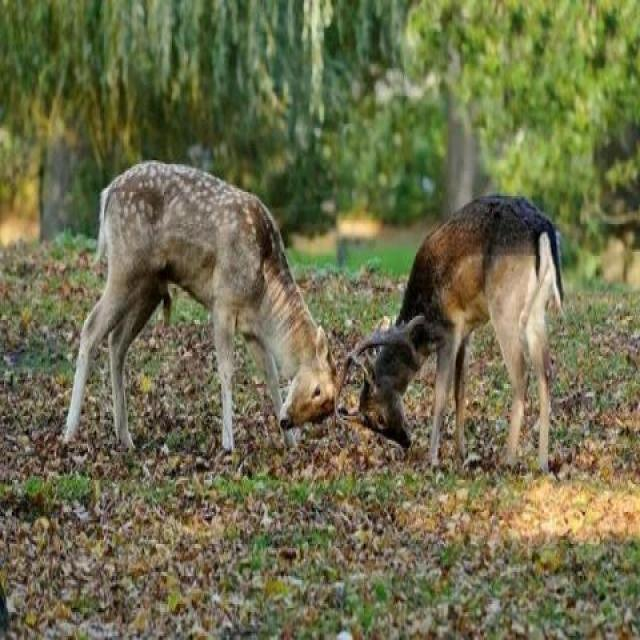deer: (84, 131, 356, 477), (324, 180, 550, 471)
